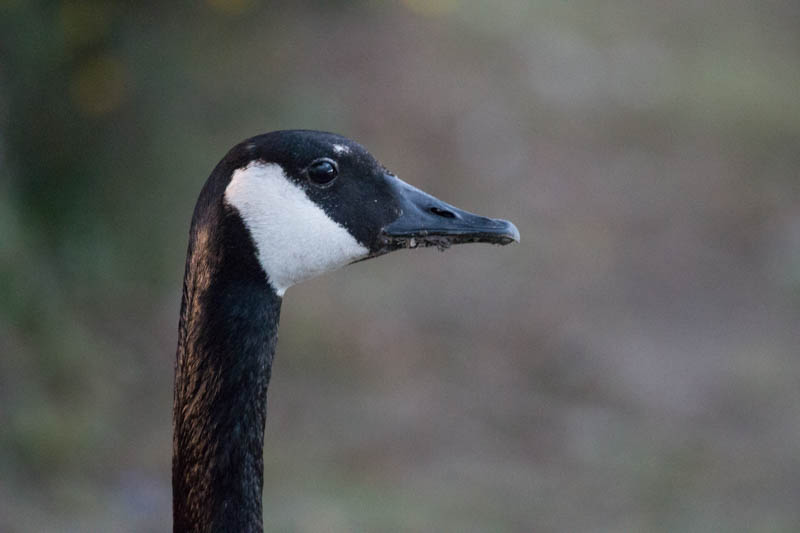goose-head: (188, 128, 521, 300)
